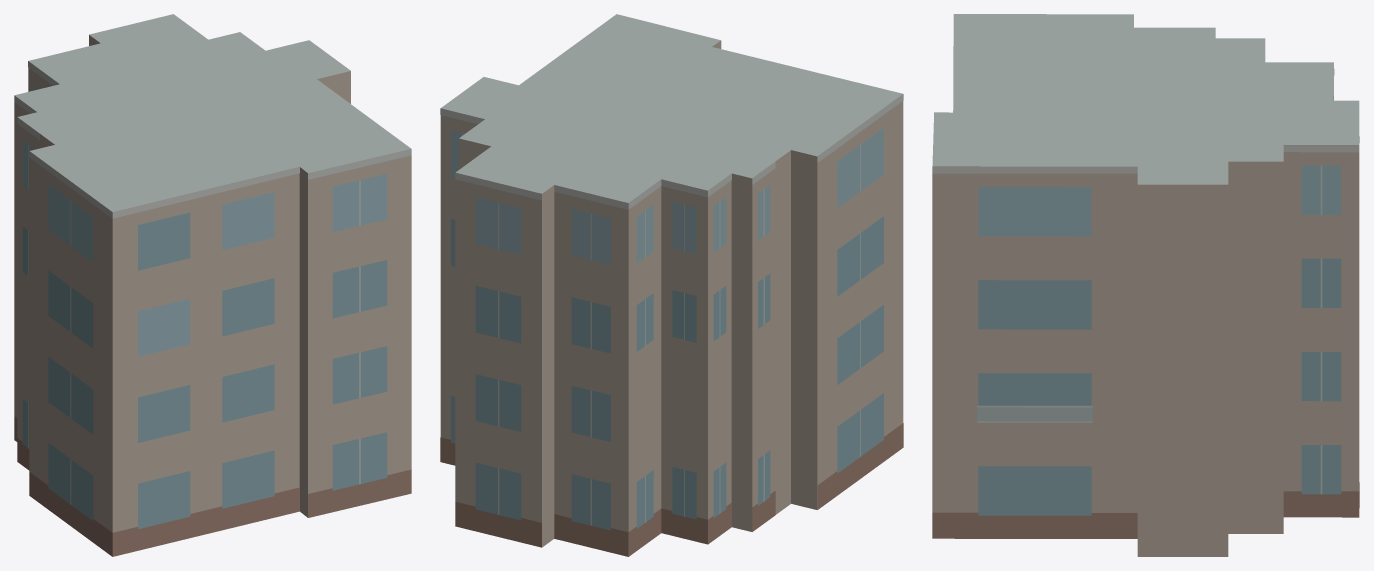
File: survey-upis-33023191.glb
3 renders of one model, left to right at view 1: azimuth 30°, elevation 25°; view 2: azimuth 150°, elevation 25°; view 3: azimuth 270°, elevation 25°, orthographic. The views are drawn at different scales.
Parts seen in each view (by area): view 1: survey-upis-33023191.tmp; view 2: survey-upis-33023191.tmp; view 3: survey-upis-33023191.tmp.
Part boxes in pixels (x1,y1,x2,y2): survey-upis-33023191.tmp: (14,14,411,556); survey-upis-33023191.tmp: (440,14,903,556); survey-upis-33023191.tmp: (932,14,1359,556).
Size of the model in its own units: 12.59 by 12.8 by 13.32.
